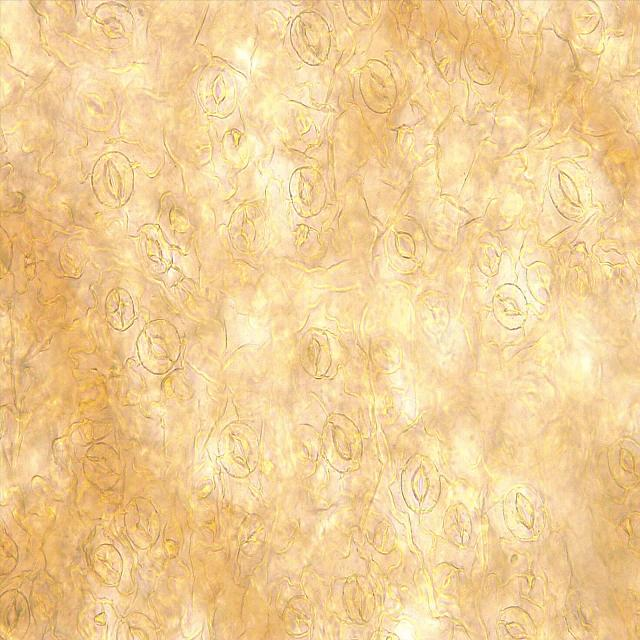Stomata: (548, 158, 594, 220), (135, 318, 182, 376), (90, 150, 136, 208), (320, 412, 363, 474), (502, 483, 545, 543), (400, 453, 442, 514), (385, 217, 428, 276), (73, 78, 119, 133), (217, 421, 260, 478), (89, 0, 136, 52), (196, 62, 238, 120), (289, 9, 331, 67), (358, 58, 399, 116), (564, 584, 606, 640), (82, 441, 124, 493), (123, 496, 162, 550), (289, 166, 328, 220), (228, 202, 267, 255), (342, 573, 377, 625), (298, 326, 332, 379), (492, 282, 528, 332), (607, 436, 640, 490), (0, 586, 31, 640), (495, 605, 537, 640), (115, 610, 160, 640), (369, 334, 401, 372), (342, 0, 383, 28)
